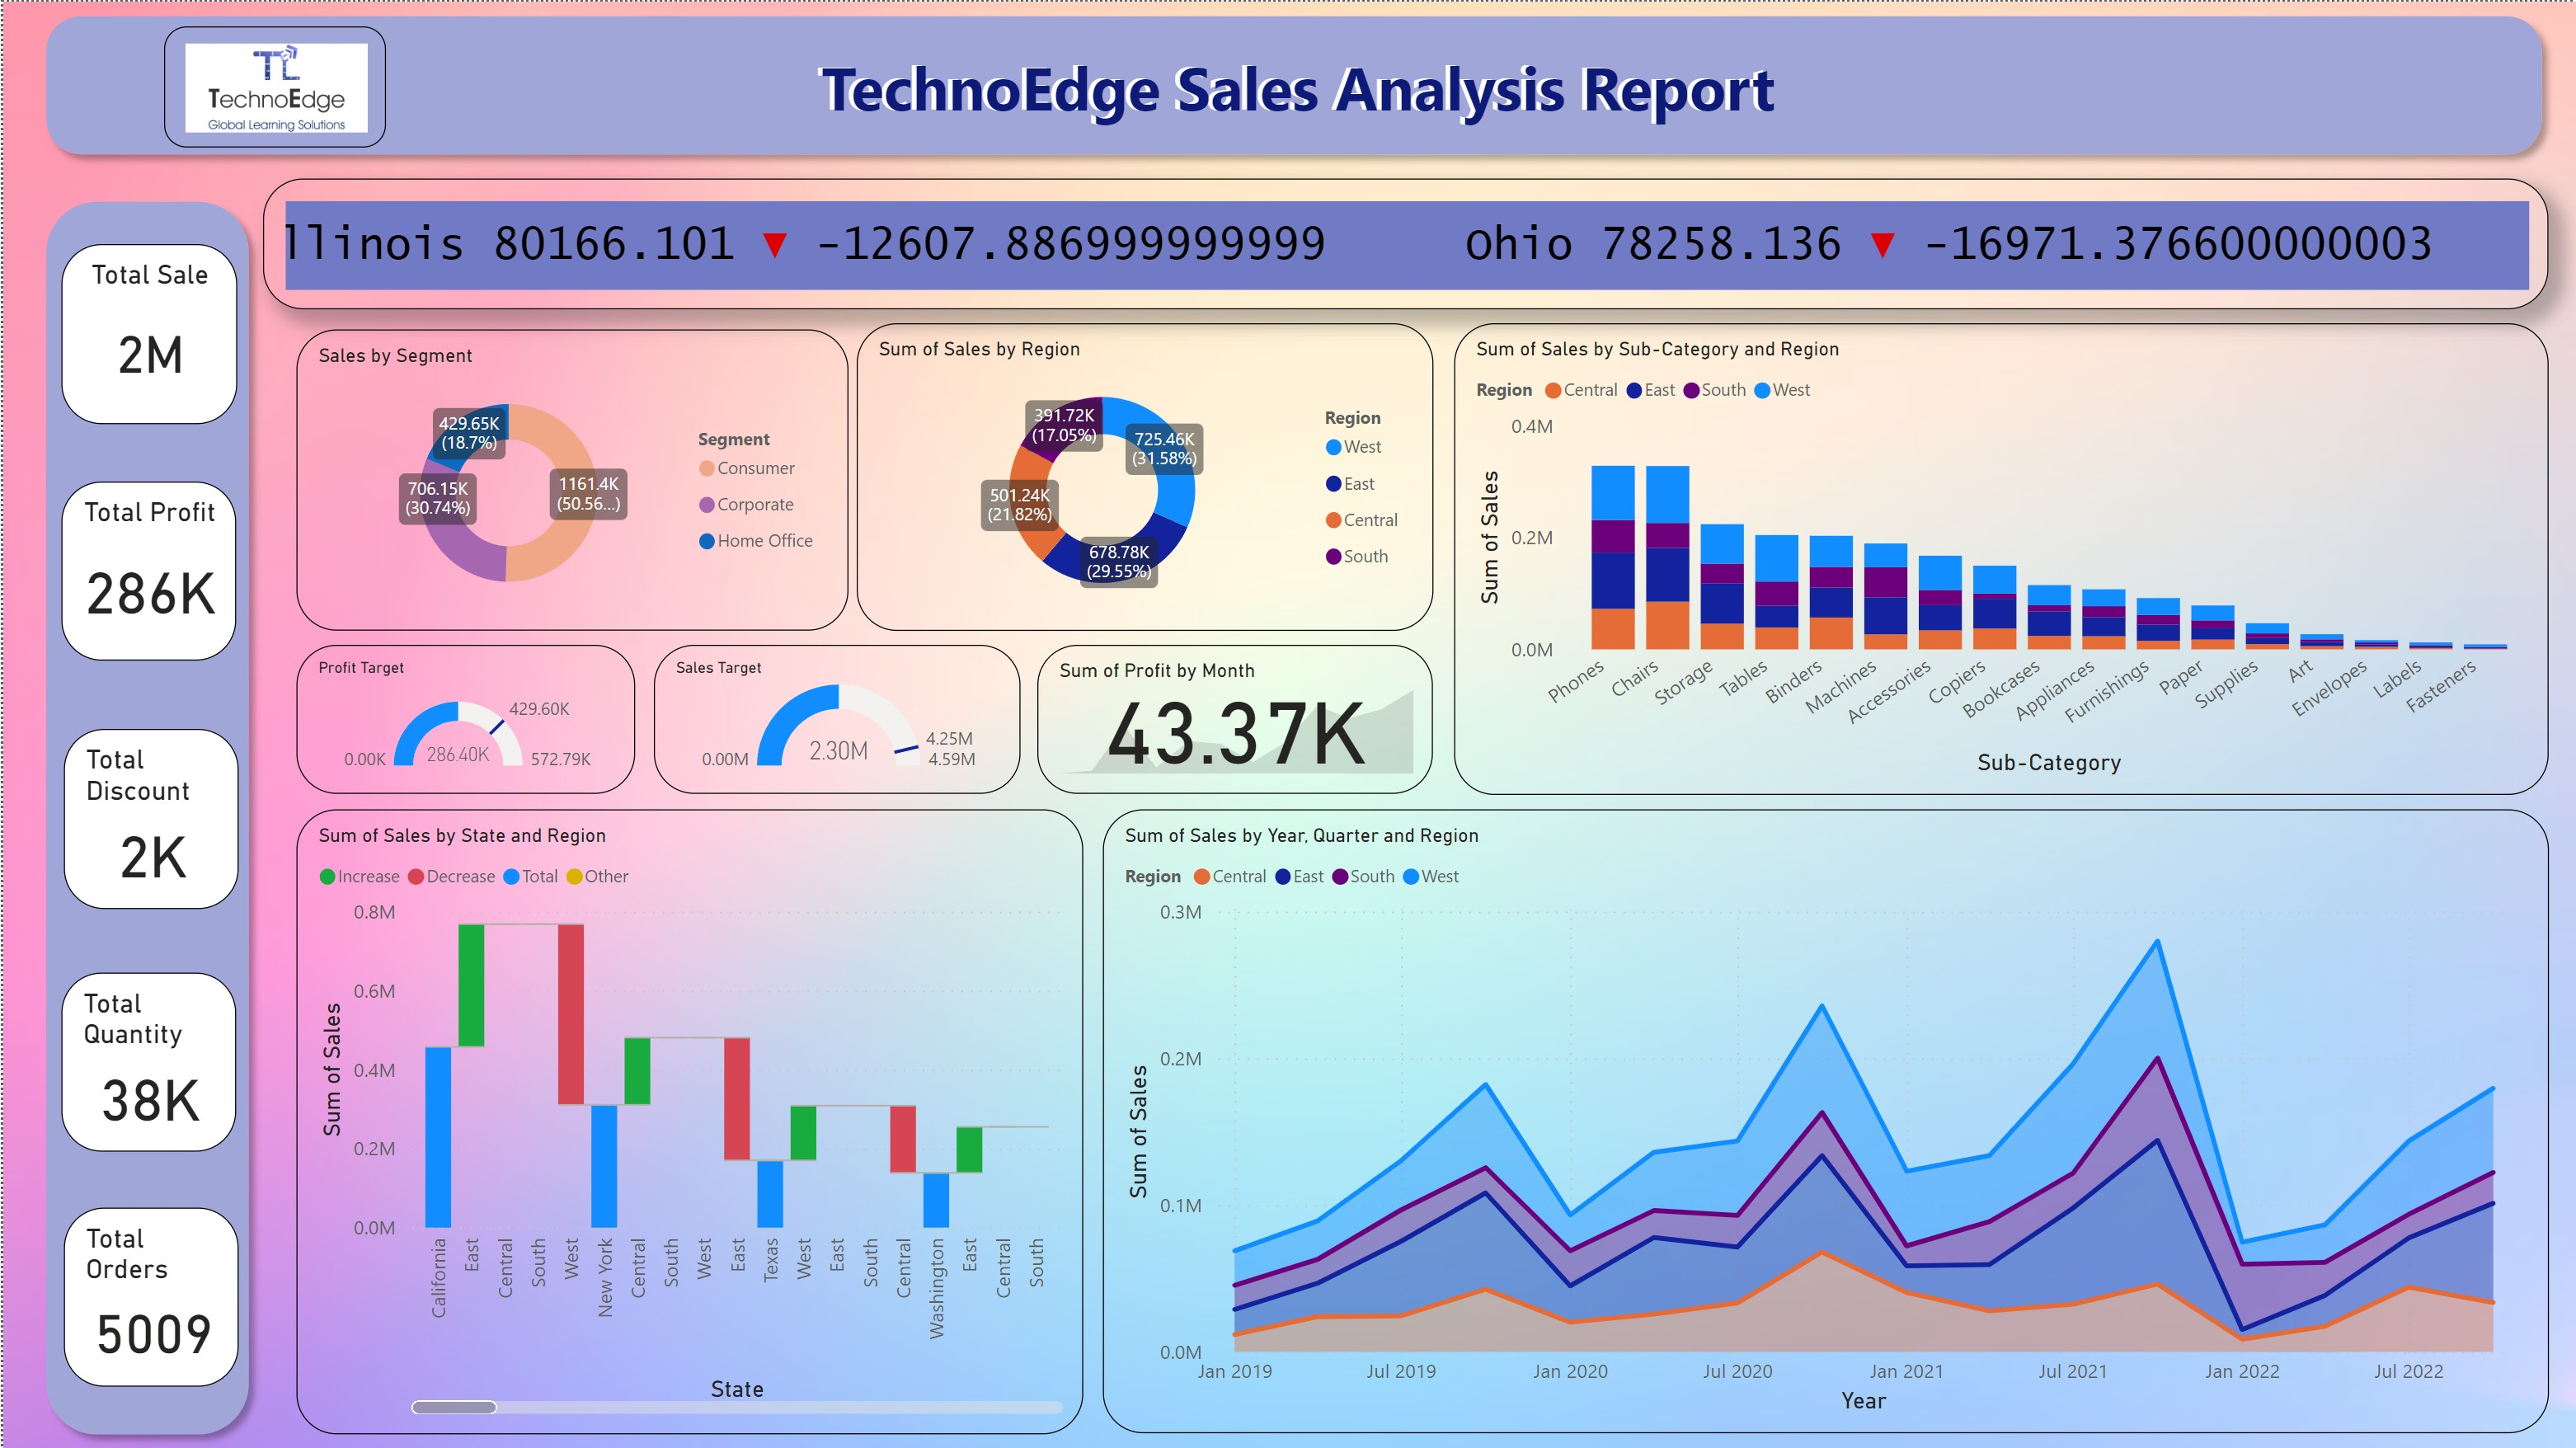

What the dashboard file says about the page in this screenshot:
{"tool":"powerbi","page":{"name":"Page1","canvas":[1600,900],"ordinal":0},"visuals":[{"type":"shape","box":[20.8,115,143.9,785],"z":0,"group":"g1"},{"type":"shape","box":[20.8,0,1570,103.9],"z":0},{"type":"stackedAreaChart","fields":{"Series":["Mail.Region"],"Y":["Sum(Mail.Sales)"],"Category":["Mail.Order Date.Variation.Date Hierarchy.Year","Mail.Order Date.Variation.Date Hierarchy.Quarter","Mail.Order Date.Variation.Date Hierarchy.Month"]},"box":[684.1,502.3,906.7,388],"z":1000},{"type":"card","title":"Total Sale","fields":{"Values":["Sum(Mail.Sales)"]},"box":[39,150.1,109.2,111.9],"z":2000,"group":"g1"},{"type":"waterfallChart","fields":{"Category":["Mail.State"],"Y":["Sum(Mail.Sales)"],"Breakdown":["Mail.Region"]},"box":[182.1,502,489.2,388.3],"z":2000},{"type":"card","title":"Total Profit","fields":{"Values":["Sum(Mail.Profit)"]},"box":[39.2,297.8,108.8,111.5],"z":3000,"group":"g1"},{"type":"donutChart","fields":{"Y":["Sum(Mail.Sales)"],"Category":["Mail.Region"]},"box":[530.5,200.3,358.4,191.4],"z":3000},{"type":"donutChart","title":"Sales by Segment","fields":{"Y":["Sum(Mail.Sales)"],"Category":["Mail.Segment"]},"box":[182.1,204,343.2,187.4],"z":4000},{"type":"card","title":"Total Discount","fields":{"Values":["Sum(Mail.Discount)"]},"box":[40.4,451.7,108.8,112.2],"z":4000,"group":"g1"},{"type":"ScrollingTextVisual1448795304508","fields":{"Category":["Mail.State"],"Measure Absolute":["Sum(Mail.Sales)"],"Measure Deviation":["Sum(Mail.Profit)"]},"box":[169.3,103.9,1421.6,81.3],"z":5000},{"type":"card","title":"Total Quantity","fields":{"Values":["Sum(Mail.Quantity)"]},"box":[39.2,603.6,108.8,111.5],"z":5000,"group":"g1"},{"type":"image","box":[100.2,15.1,138.1,75.7],"z":6000},{"type":"card","title":"Total Orders","fields":{"Values":["Count(Mail.Order ID)"]},"box":[40.4,749.6,108.8,111.5],"z":6000,"group":"g1"},{"type":"textbox","box":[507.2,20.3,629.9,74.5],"z":7000},{"type":"group","id":"g1","title":"Group 1","box":[20.8,115,143.9,785],"z":8000},{"type":"columnChart","fields":{"Y":["Sum(Mail.Sales)"],"Category":["Mail.Sub-Category"],"Series":["Mail.Region"]},"box":[902.2,200.3,688.5,293.1],"z":9000},{"type":"gauge","title":"Profit Target","fields":{"Y":["Sum(Mail.Profit)"],"TargetValue":["Mail.ProfitTarget"]},"box":[182.1,400.4,210.7,92.6],"z":10000},{"type":"gauge","title":"Sales Target","fields":{"Y":["Sum(Mail.Sales)"],"TargetValue":["Mail.SalesTarget"]},"box":[404.9,400.4,228,92.6],"z":11000},{"type":"kpi","fields":{"TrendLine":["Mail.Order Date.Variation.Date Hierarchy.Month"],"Indicator":["Sum(Mail.Profit)"]},"box":[642.7,400.4,246.1,92.6],"z":12000}]}

Visuals, with their boxes in screenshot pixels (x1, y1, x2, y2), scaled from the page's 1600x900 canvas onto the 2576x1448 screenshot:
shape: Rect(34, 185, 266, 1447)
shape: Rect(34, 0, 2561, 167)
stackedAreaChart - Mail.Region x Sum(Mail.Sales): Rect(1102, 808, 2561, 1432)
"Total Sale" card: Rect(63, 242, 238, 421)
waterfallChart - Mail.State x Sum(Mail.Sales): Rect(294, 807, 1081, 1432)
"Total Profit" card: Rect(63, 479, 238, 659)
donutChart - Sum(Mail.Sales) x Mail.Region: Rect(854, 322, 1431, 630)
"Sales by Segment" donutChart: Rect(294, 328, 846, 630)
"Total Discount" card: Rect(65, 726, 240, 907)
ScrollingTextVisual1448795304508 - Mail.State x Sum(Mail.Sales): Rect(273, 167, 2561, 298)
"Total Quantity" card: Rect(63, 971, 238, 1150)
image: Rect(162, 24, 383, 146)
"Total Orders" card: Rect(65, 1206, 240, 1385)
textbox: Rect(816, 33, 1831, 153)
"Group 1" group: Rect(34, 185, 266, 1447)
columnChart - Sum(Mail.Sales) x Mail.Sub-Category: Rect(1453, 322, 2561, 794)
"Profit Target" gauge: Rect(294, 644, 632, 793)
"Sales Target" gauge: Rect(652, 644, 1019, 793)
kpi - Mail.Order Date.Variation.Date Hierarchy.Month x Sum(Mail.Profit): Rect(1035, 644, 1431, 793)
